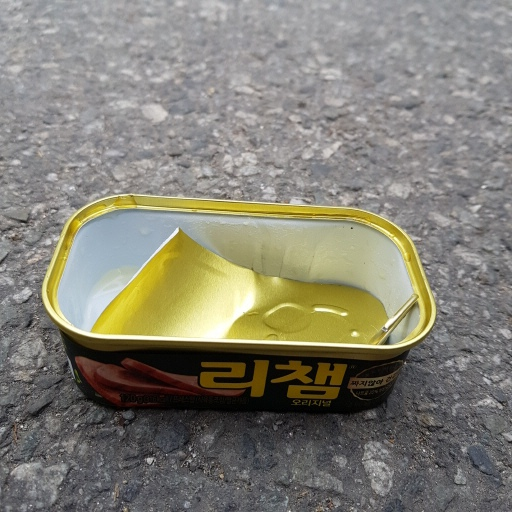Metal_2: (39, 190, 439, 419)
